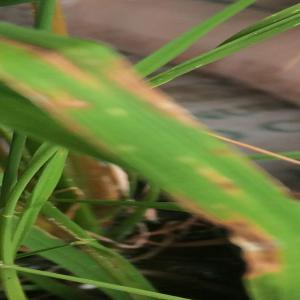Rice_Blast: (103, 49, 202, 129), (217, 210, 280, 279), (47, 89, 93, 114)
